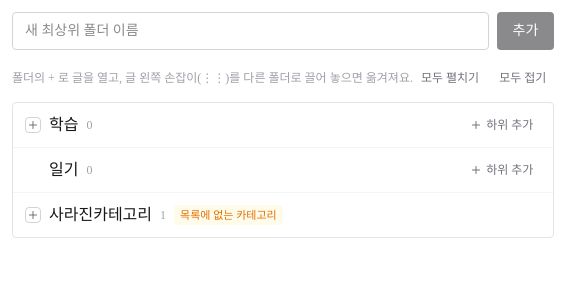
Test: PostMover (글 이동 탭) › 카테고리가 아직 지정되지 않은 글(트리에 연결 안 됨)은 '목록에 없는 카테고리' 폴더로 보인다
What coordinates should you click on to do the following:
click the button named "사라진카테고리 펼치기"
I would click on:
 (33, 215)
Its box is [25,207,41,223].
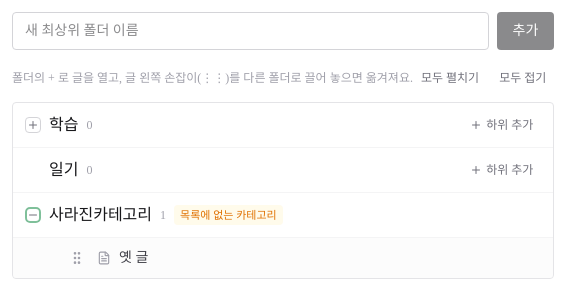
Expected: the text "목록에 없는 카테고리" is shown, [174,205,283,225]
Result: the link "옛 글" is shown at [119,248,148,268]
